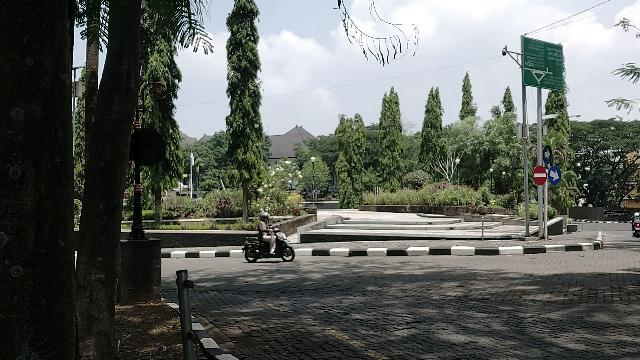helm: (261, 213, 271, 222)
motor: (243, 229, 296, 263)
